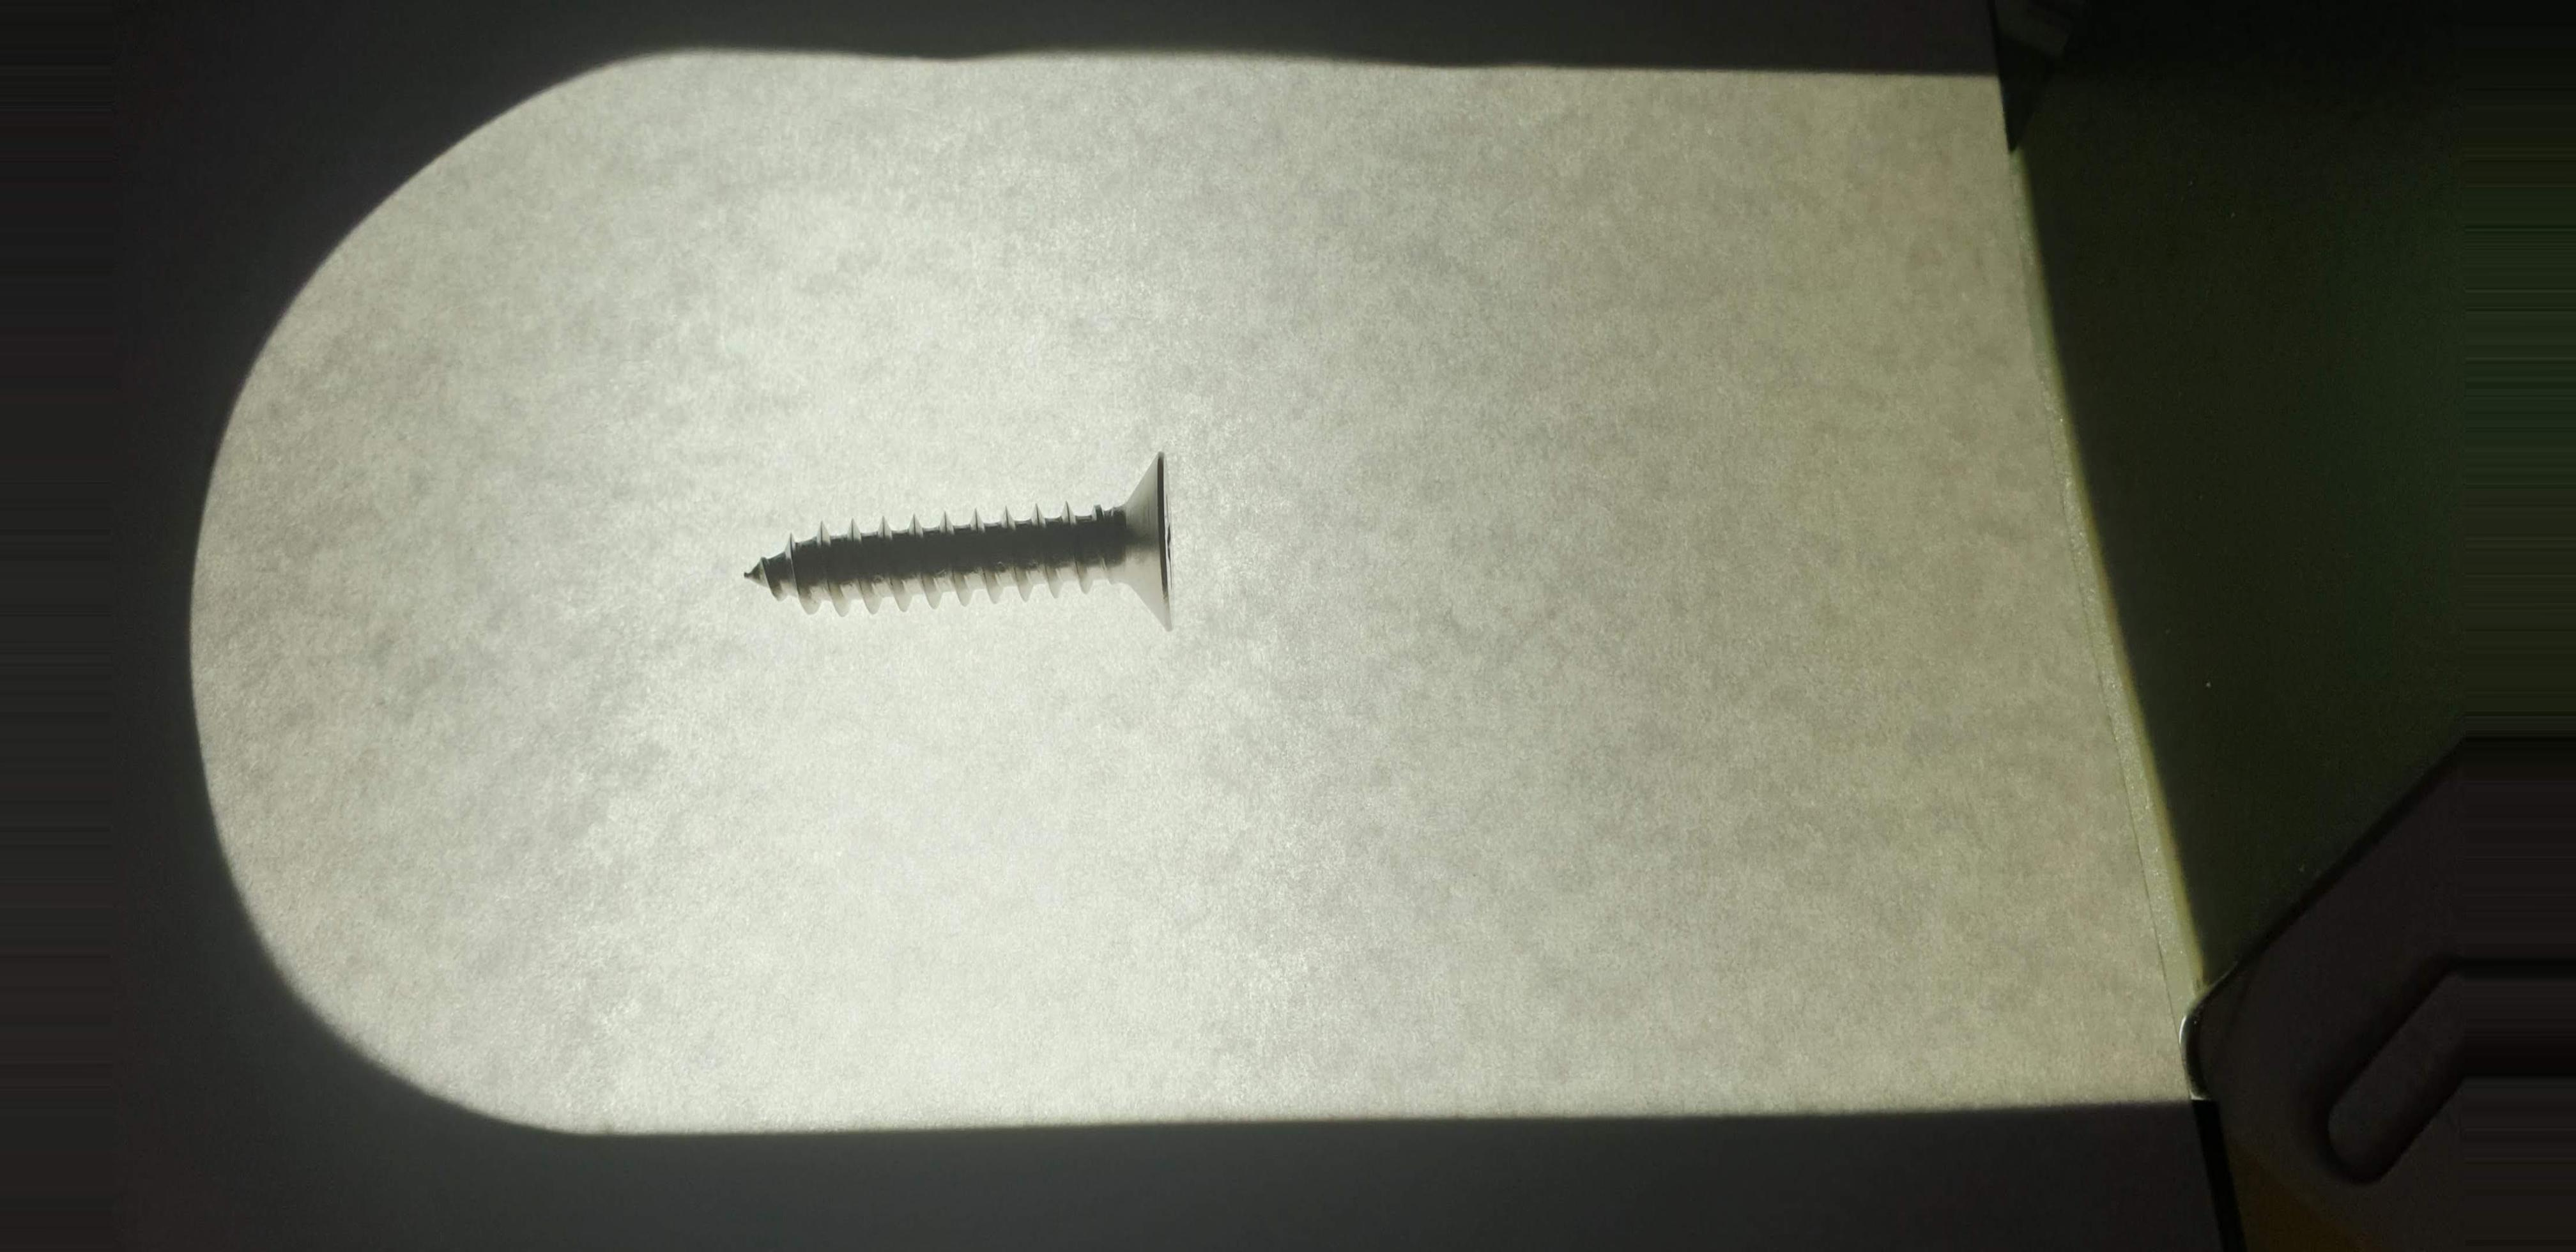S004: (713, 434, 1230, 685)
